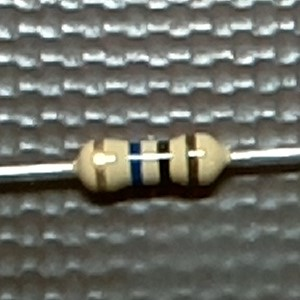black_band: (156, 136, 174, 188)
blue_band: (127, 138, 147, 189)
brown_band: (182, 129, 204, 189)
gold_band: (90, 135, 110, 195)
